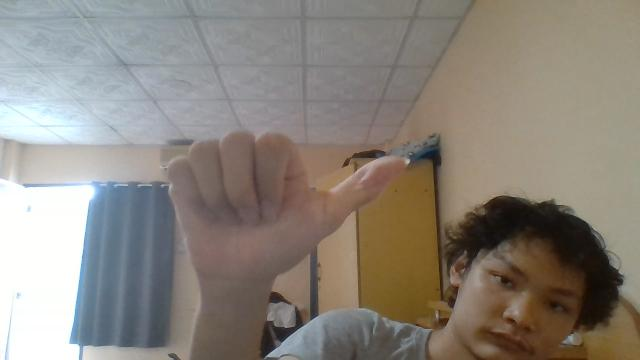left: (166, 129, 410, 285)
